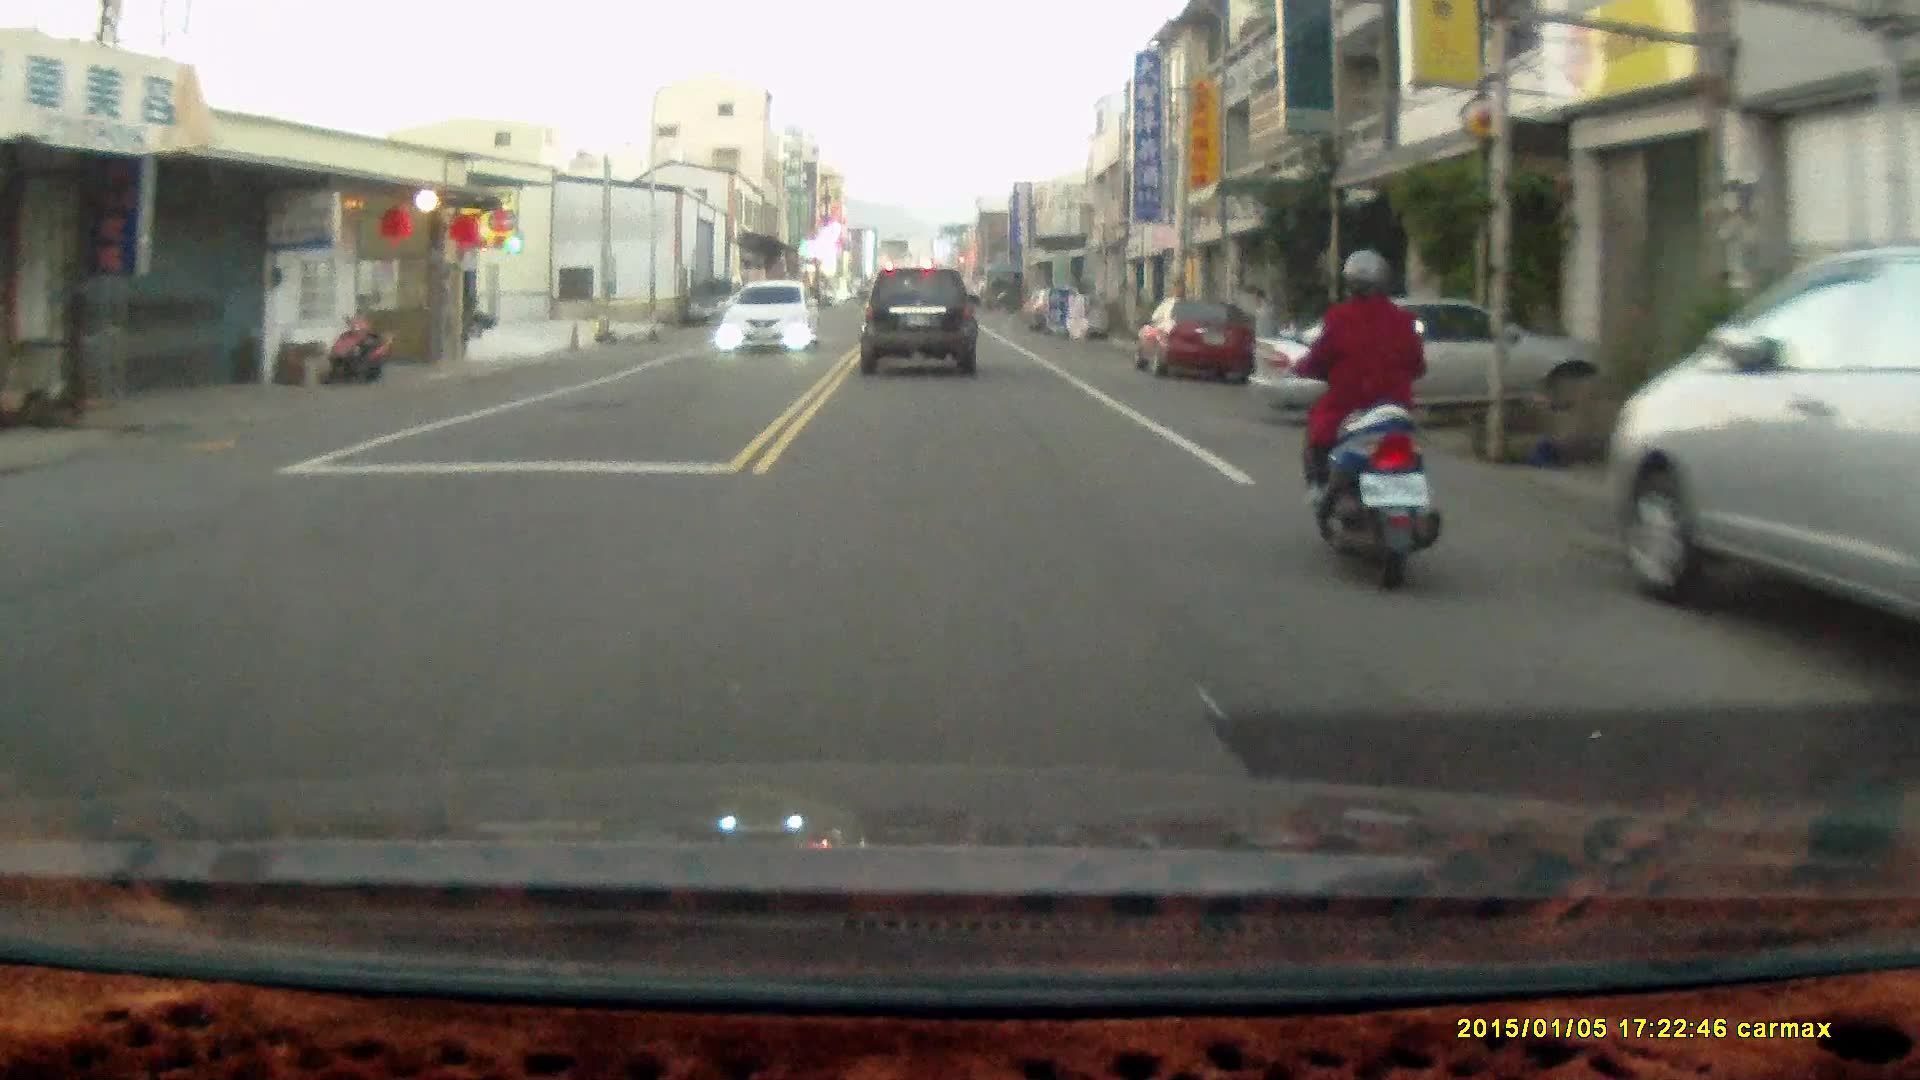rider: (1267, 247, 1443, 595)
vehicle: (1607, 250, 1920, 707), (1255, 295, 1614, 431), (858, 268, 981, 380), (1132, 295, 1258, 382), (718, 283, 821, 356), (683, 278, 747, 326)
